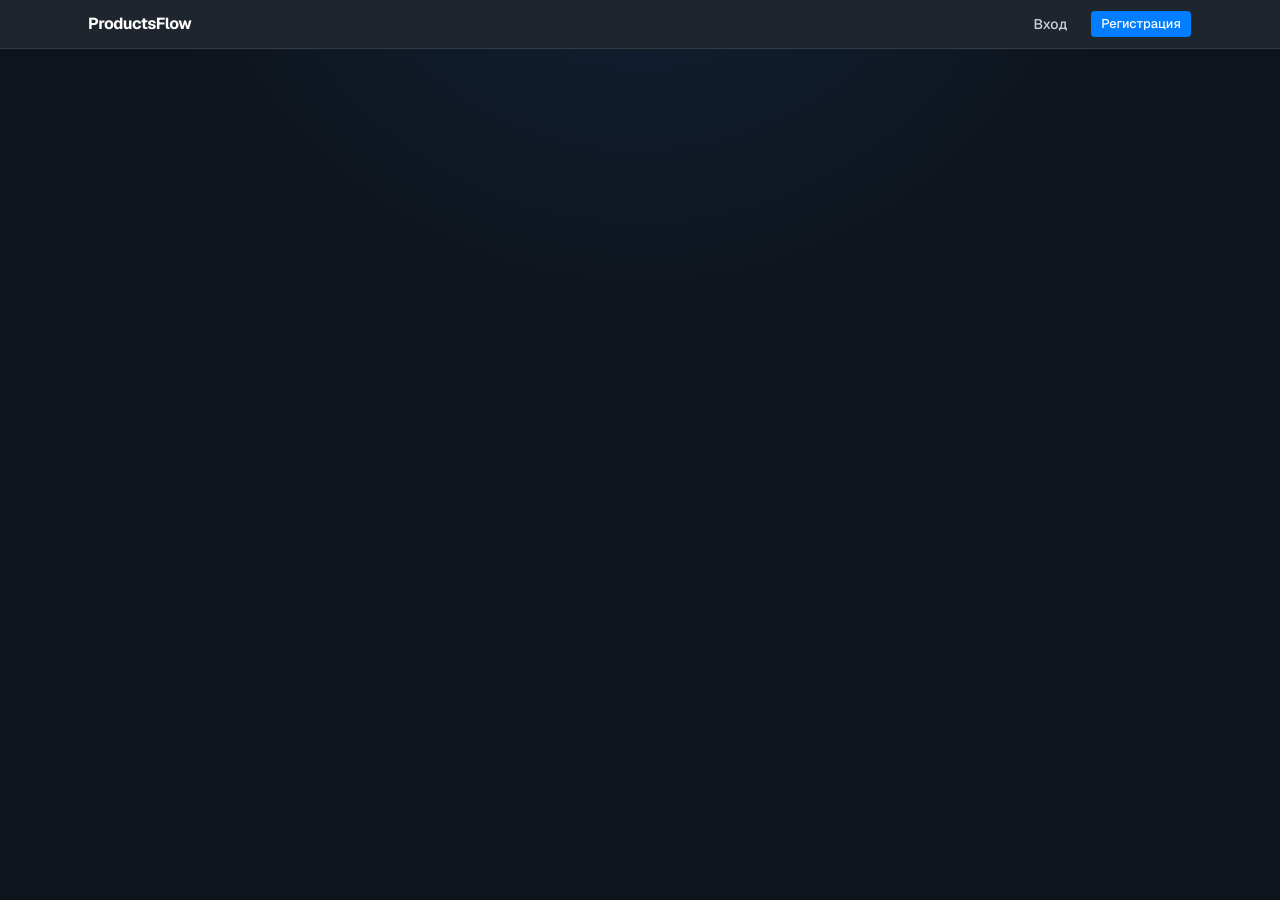
Test case: Header › opens an authorization dialog for a guest
The width and height of the screenshot is (1280, 900).
Click the button "Вход" at [1050, 24], box [1022,8,1078,40]
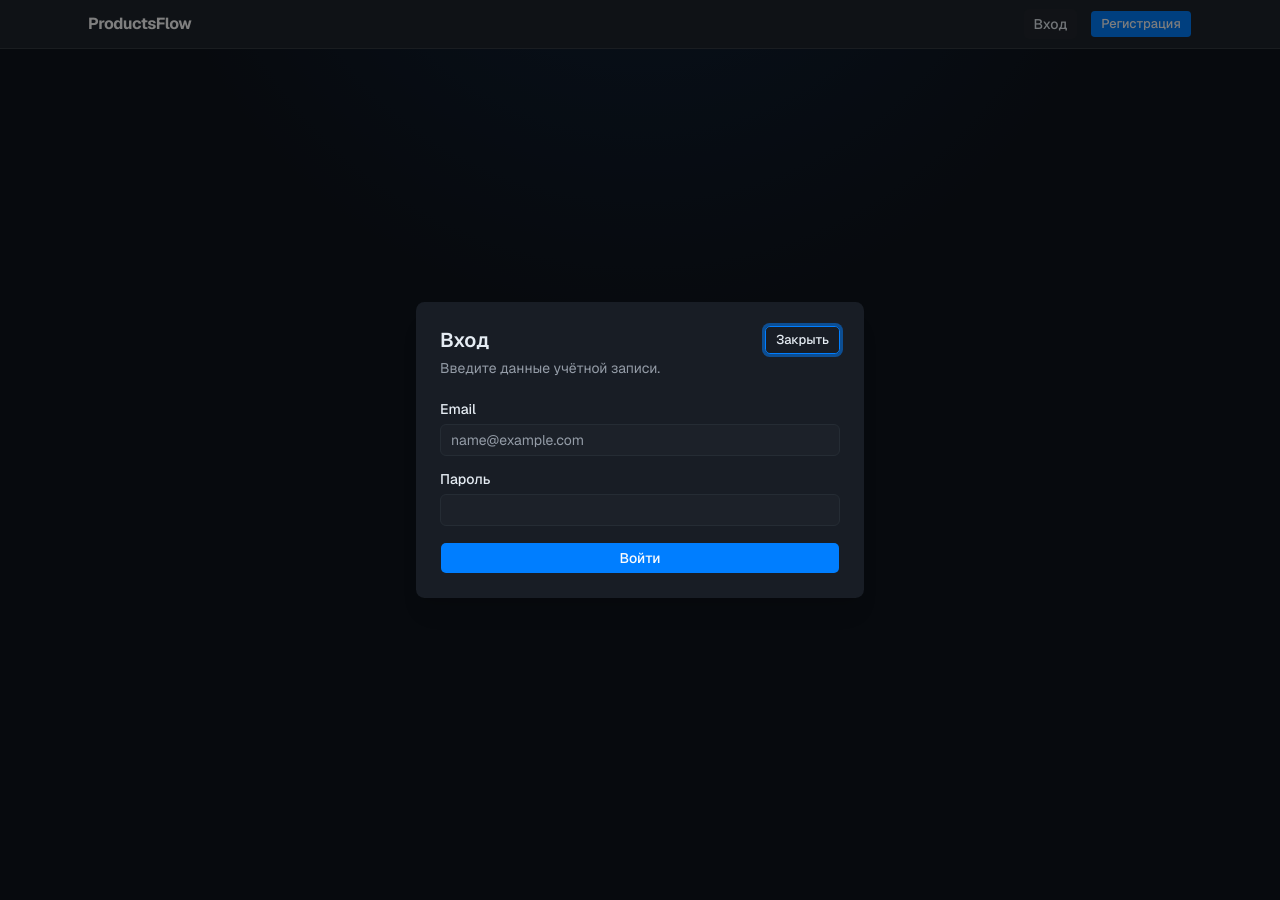
Result: the dialog "Вход" is shown at [416,302,864,598]
